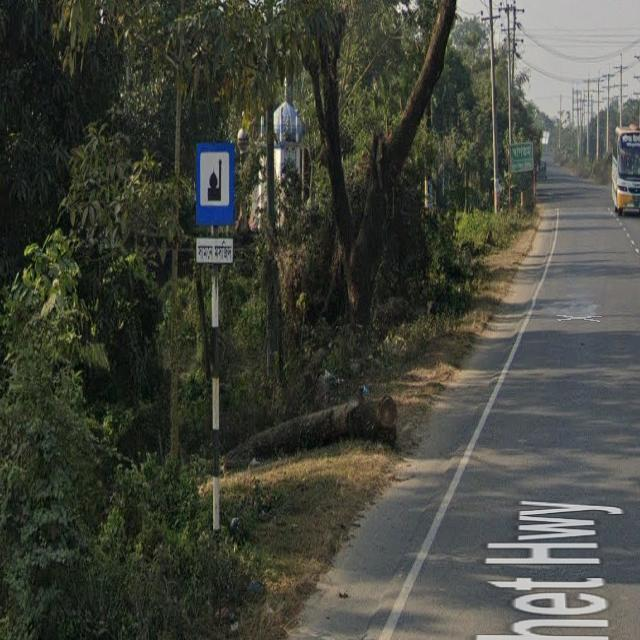Mosque in front: (192, 141, 236, 271)
